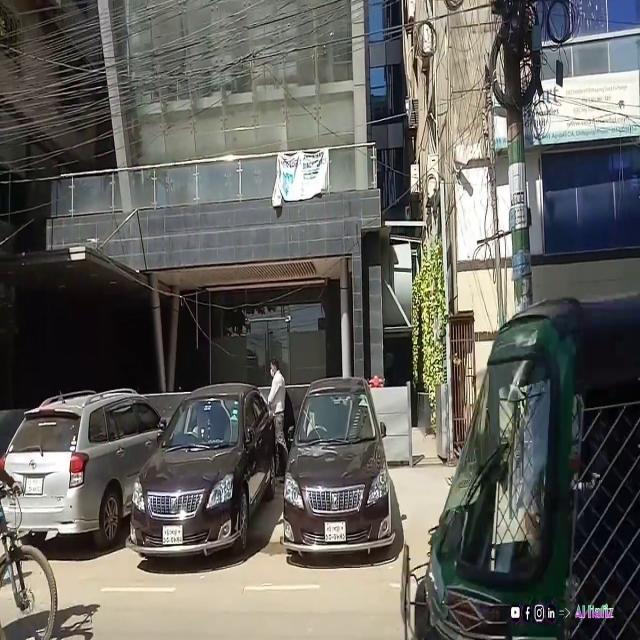silver: (6, 395, 130, 533)
